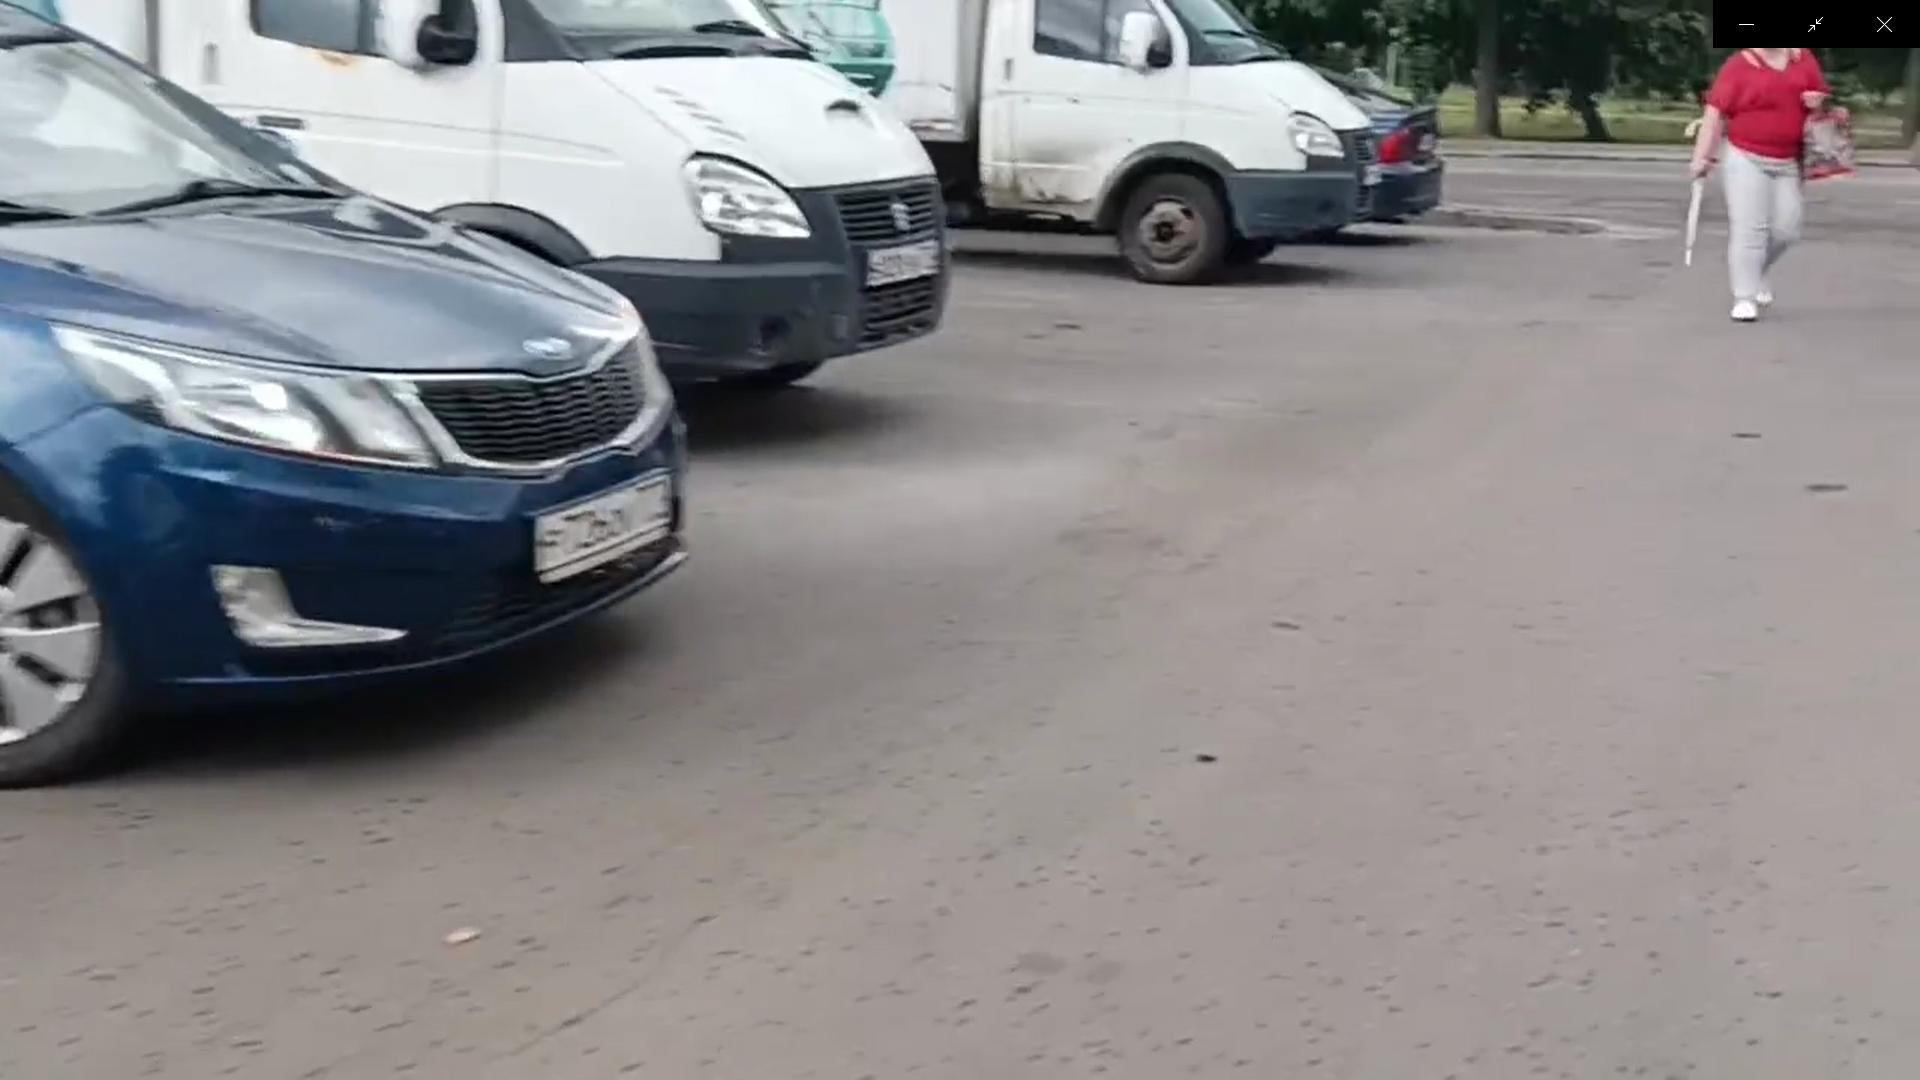plate: (535, 467, 682, 578), (871, 237, 942, 276)
